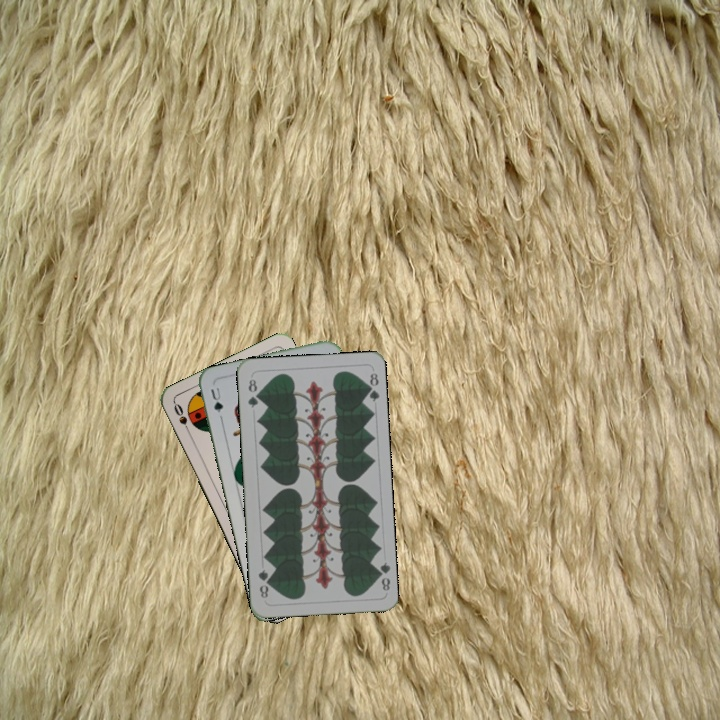G8: (372, 558, 393, 593), (244, 375, 261, 410)
GU: (206, 383, 226, 415)
SO: (170, 399, 193, 438)
